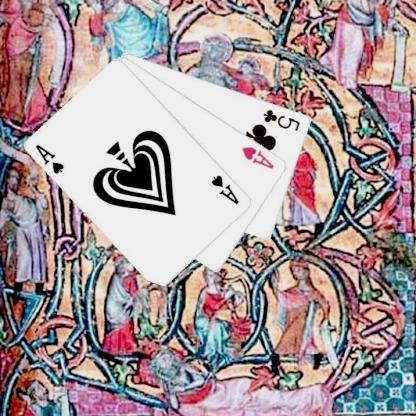5C: (261, 106, 302, 132)
AH: (239, 144, 276, 170)
AS: (33, 141, 66, 176), (209, 172, 241, 206)
